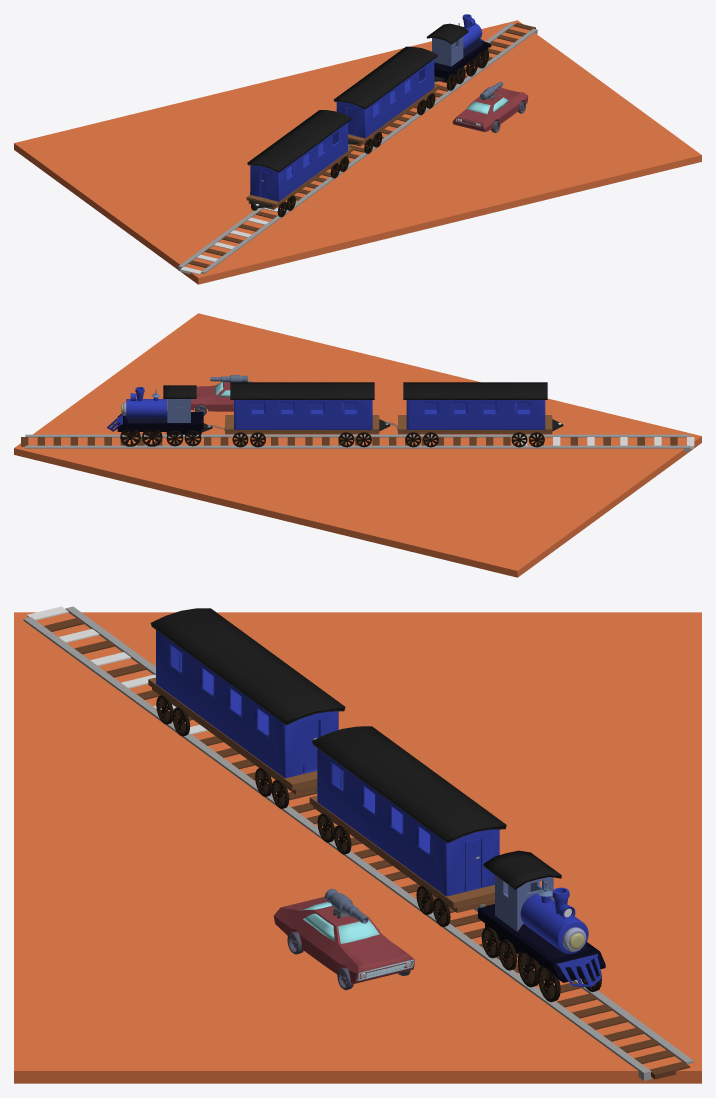
File: MenuPrincipal.glb
3 renders of one model, top to bottom at view 1: azimuth 30°, elevation 25°; view 2: azimuth 150°, elevation 25°; view 3: azimuth 270°, elevation 25°, orthographic. The views are drawn at different scales.
Parts seen in each view (by area): view 1: Plane, Cube.017, Cube.010, Plane.019, Plane.012, Cube.004, Cube, Cube.001, Cube.005, Cube.002, Cube.022, Plane.015 (+1 smaller); view 2: Plane, Cube.017, Cube.010, Plane.012, Plane.019, Cube.005, Cube.004, Cube.022, Cube.015, Cube.002, Cube, Cylinder.002 (+2 smaller); view 3: Plane, Cube.010, Cube.017, Plane.012, Plane.019, Cube.004, Cube, Cube.002, Cube.015, Cube.005, Cylinder.002, Cube.022 (+4 smaller).
Boxes of the visible parts, bbox=[...] form: Plane: bbox=[14, 20, 701, 284]; Cube.017: bbox=[250, 122, 347, 201]; Cube.010: bbox=[336, 59, 434, 138]; Plane.019: bbox=[247, 110, 351, 172]; Plane.012: bbox=[333, 46, 437, 109]; Cube.004: bbox=[201, 28, 537, 273]; Cube: bbox=[452, 87, 528, 132]; Cube.001: bbox=[432, 36, 463, 66]; Cube.005: bbox=[178, 23, 514, 270]; Cube.002: bbox=[434, 41, 491, 81]; Cube.022: bbox=[246, 146, 352, 209]; Plane.015: bbox=[426, 23, 468, 44]; Plane: bbox=[14, 313, 701, 577]; Cube.017: bbox=[406, 400, 545, 429]; Cube.010: bbox=[234, 400, 372, 429]; Plane.012: bbox=[230, 382, 374, 399]; Plane.019: bbox=[403, 382, 547, 399]; Cube.005: bbox=[25, 445, 689, 451]; Cube.004: bbox=[25, 434, 689, 437]; Cube.022: bbox=[398, 415, 552, 434]; Cube.015: bbox=[225, 415, 379, 434]; Cube.002: bbox=[117, 412, 203, 434]; Cube: bbox=[191, 381, 253, 411]; Cylinder.002: bbox=[126, 399, 166, 418]; Plane: bbox=[14, 612, 701, 1083]; Cube.010: bbox=[317, 748, 499, 896]; Cube.017: bbox=[156, 630, 338, 778]; Plane.012: bbox=[312, 726, 506, 843]; Plane.019: bbox=[150, 608, 345, 725]; Cube.004: bbox=[23, 617, 651, 1080]; Cube: bbox=[273, 896, 414, 983]; Cube.002: bbox=[478, 904, 605, 982]; Cube.015: bbox=[309, 795, 494, 912]; Cube.005: bbox=[65, 606, 693, 1064]; Cylinder.002: bbox=[520, 894, 588, 953]; Cube.022: bbox=[148, 677, 317, 794].
Size of the model in its own units: 41.12 by 4.66 by 25.51.
